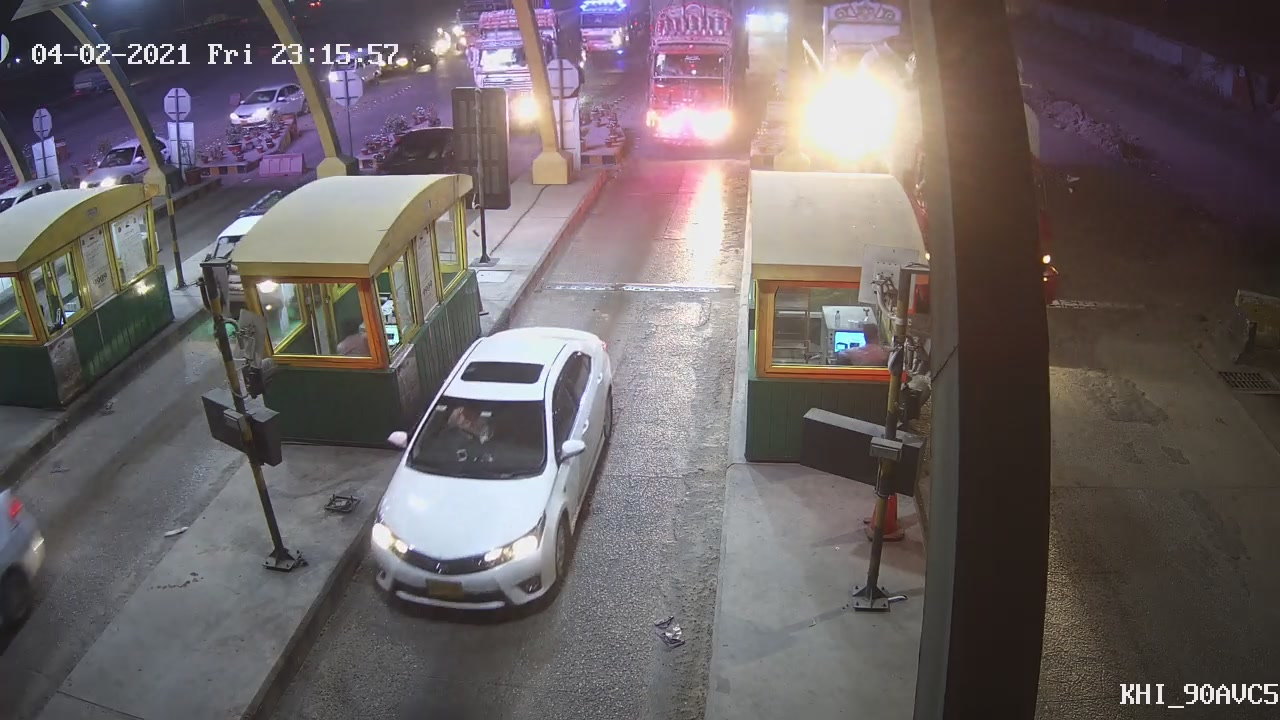F1: (370, 326, 614, 611)
